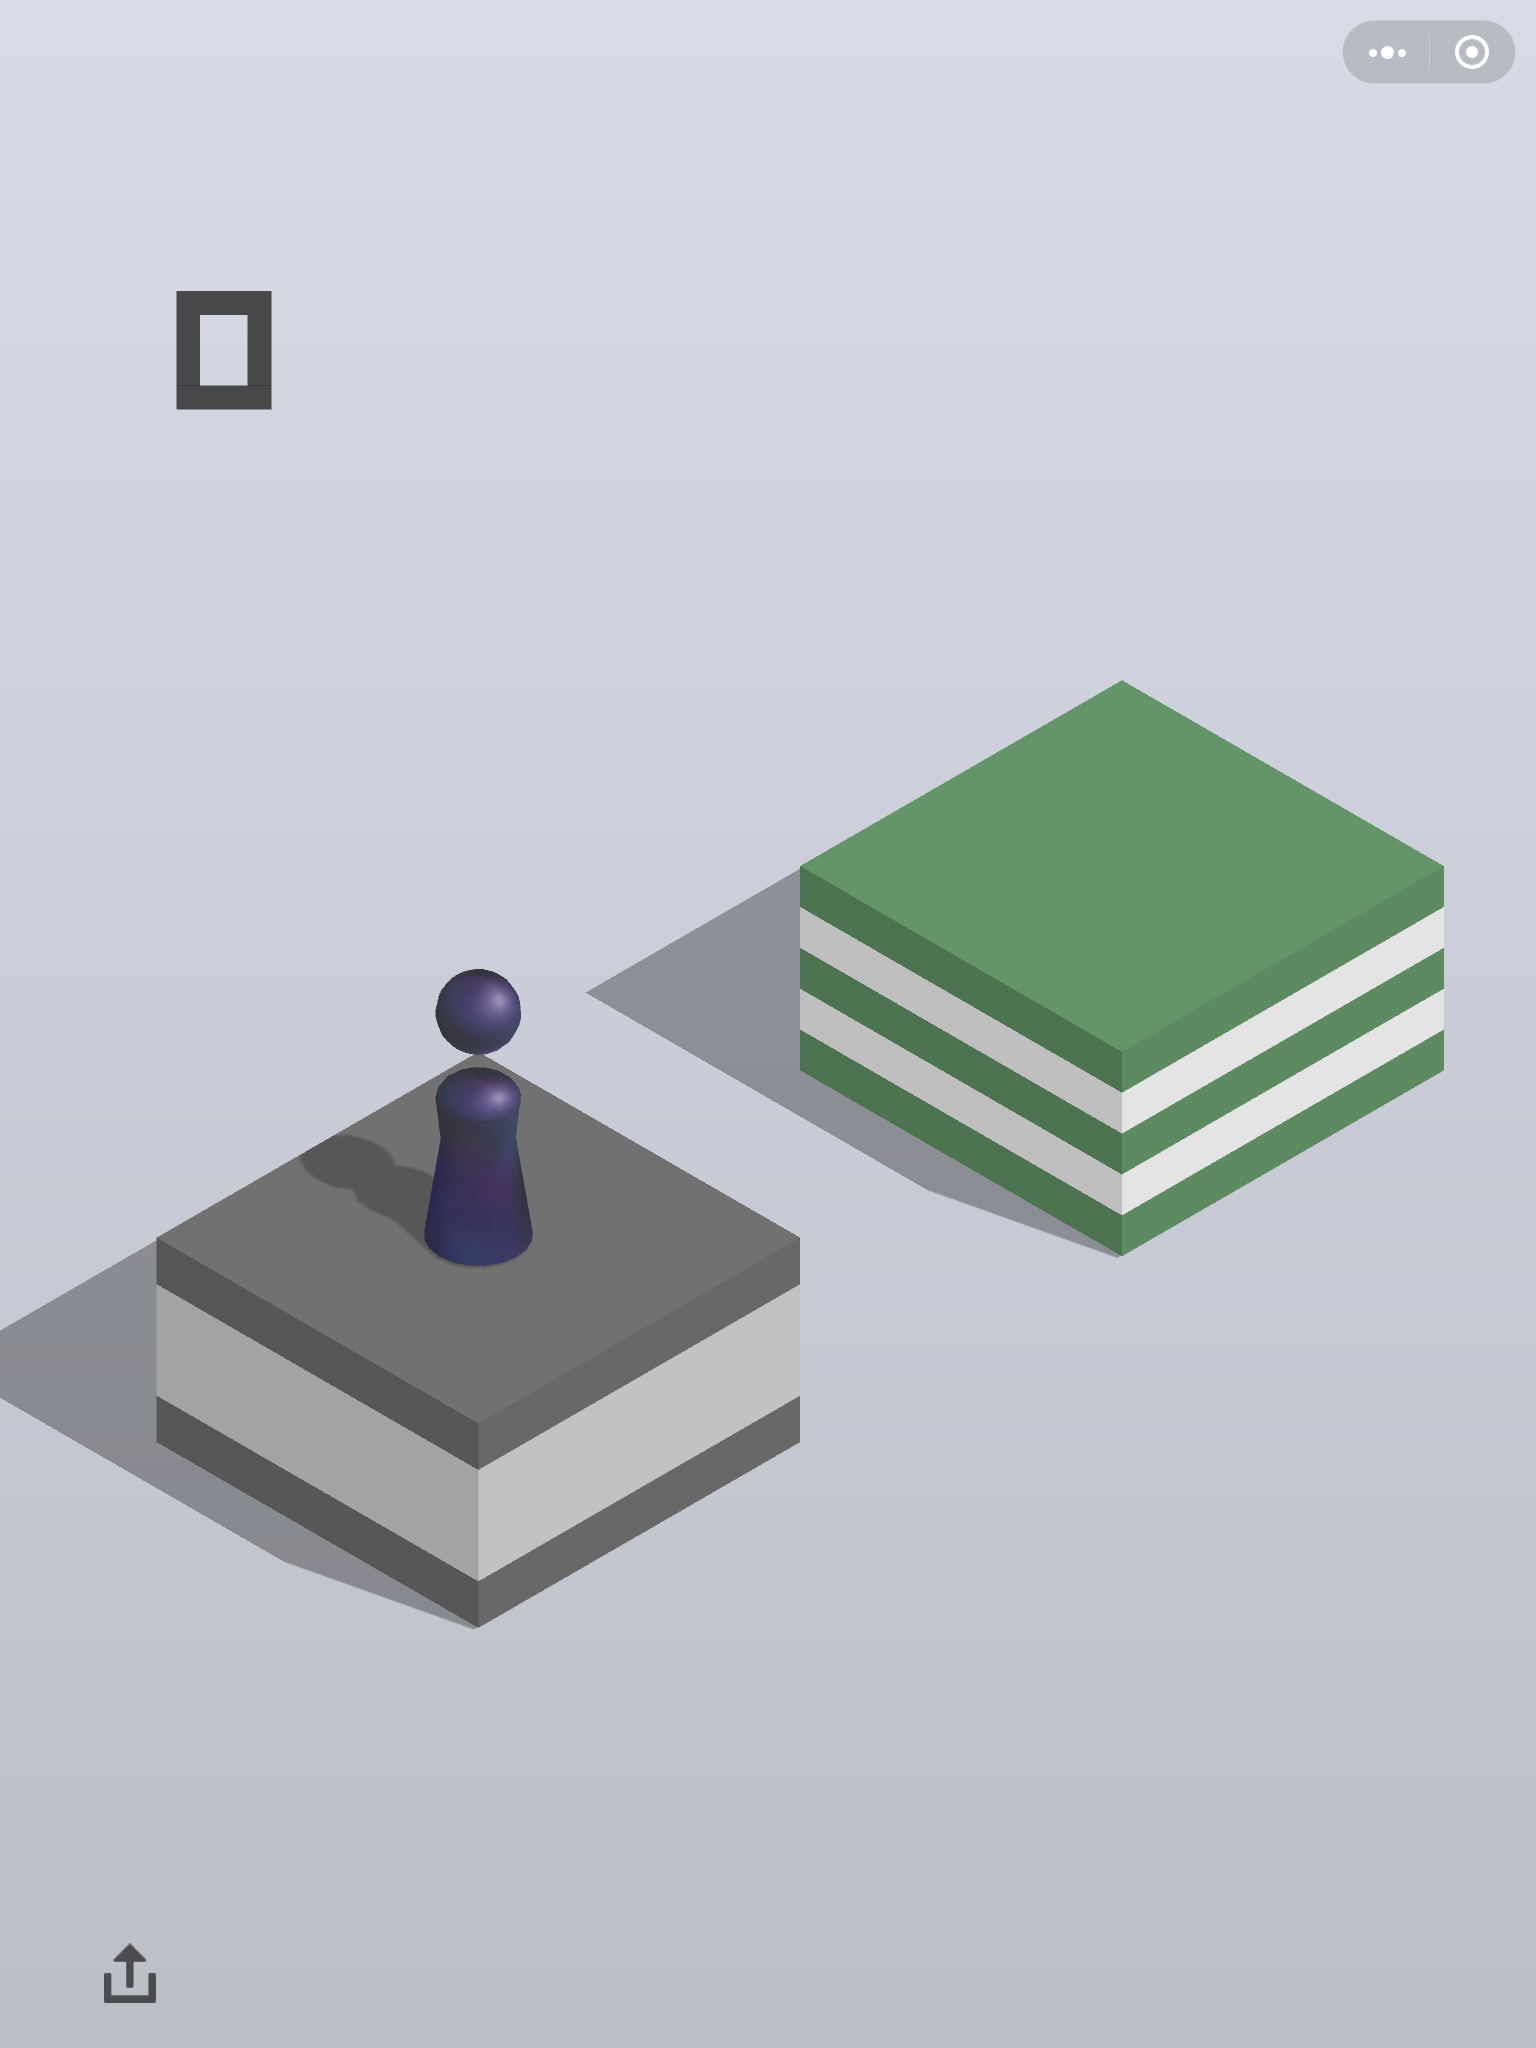f: (152, 1042, 807, 1634), (794, 672, 1450, 1258)
r: (423, 966, 537, 1271)
